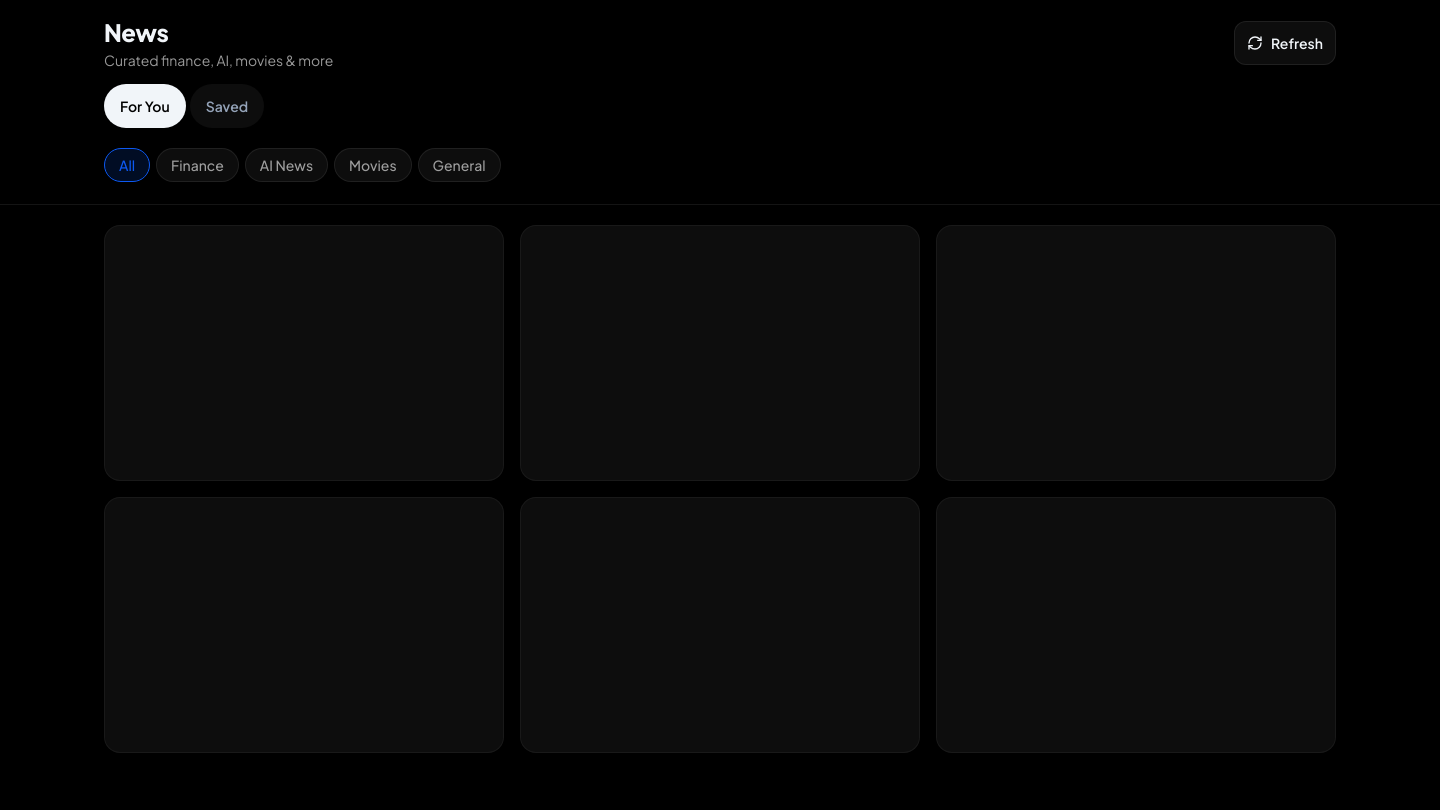
Scenario: NewsPage → ArticleReader save state › flips back to "Save" when the article is unsaved from the reader
This screenshot has width=1440, height=810.
Click the tab "Saved". click: (227, 106)
box: [190, 84, 264, 128]
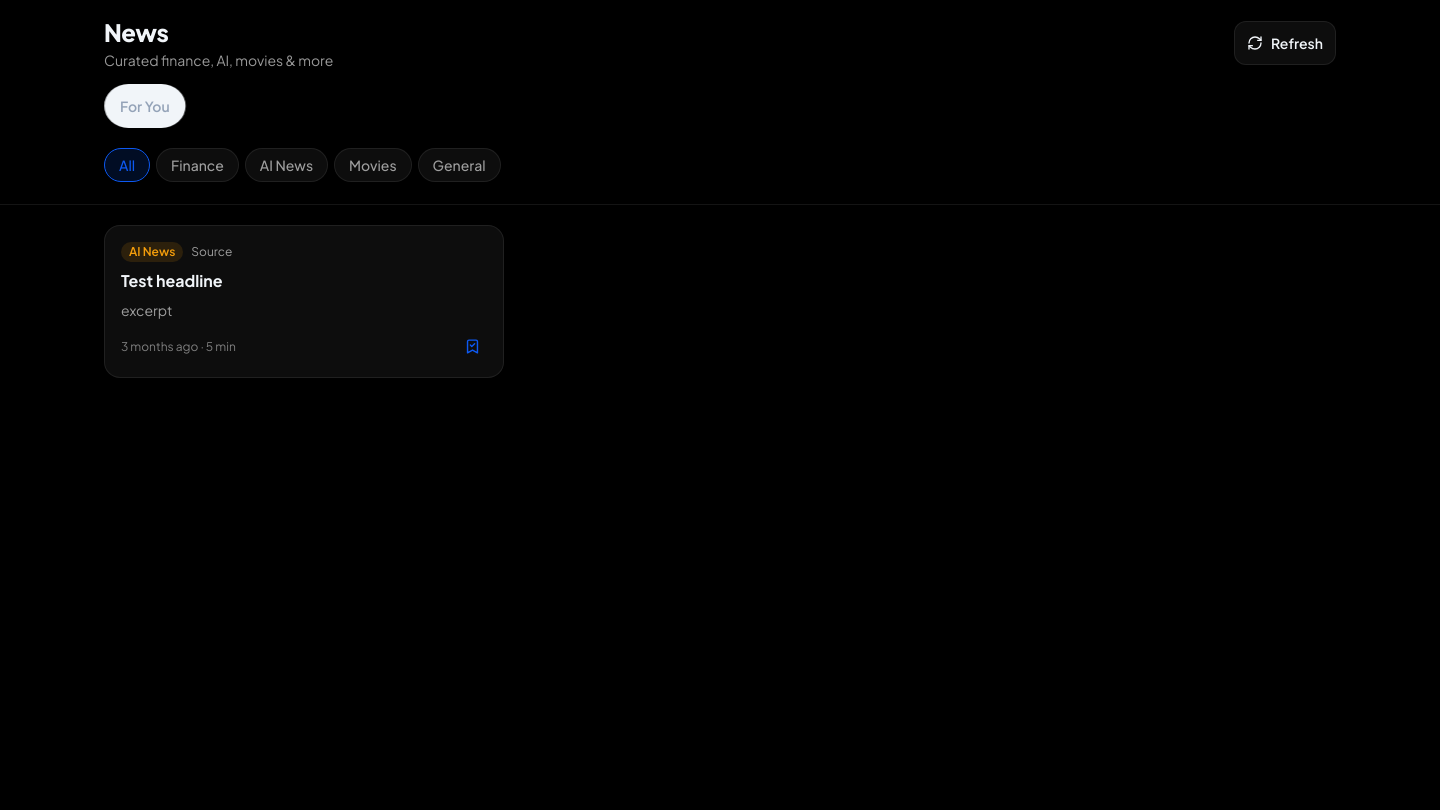
Click the heading "Test headline". click: (172, 280)
box: [121, 270, 223, 291]
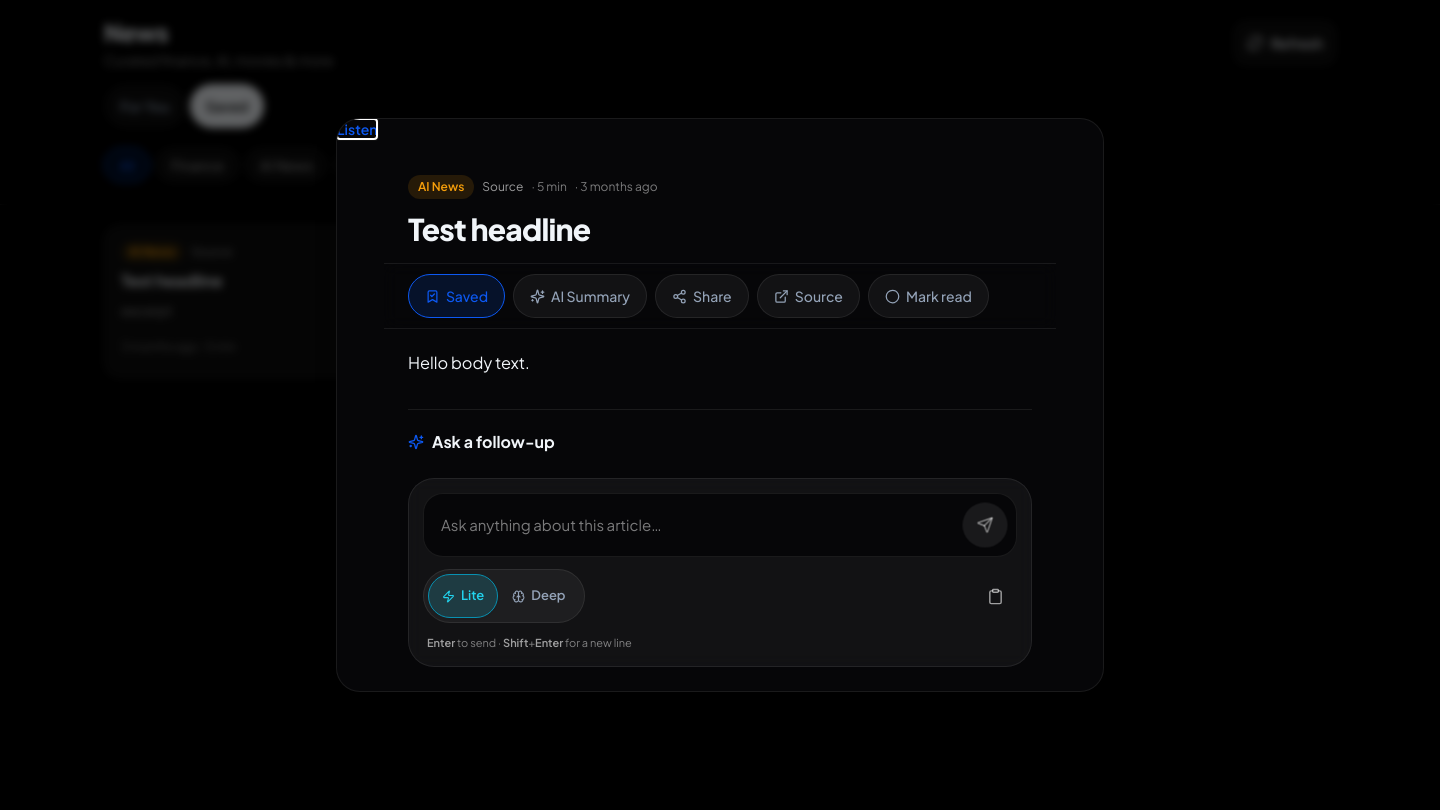
Result: the dialog is shown at [336, 118, 1104, 692]
Click the button "Saved". click: (456, 296)
box: [408, 274, 505, 318]
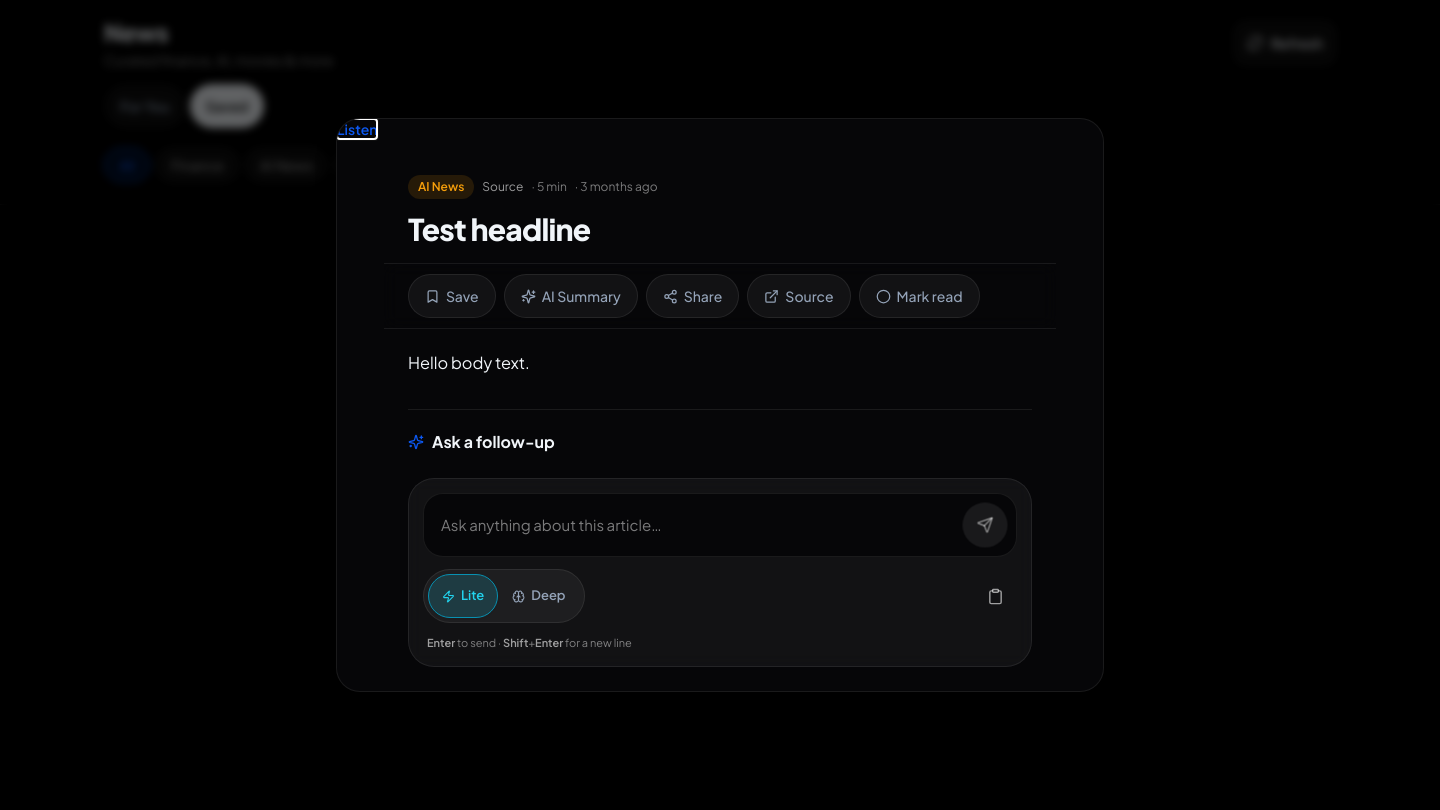
Result: the button "Save" is shown at [408, 274, 496, 318]
